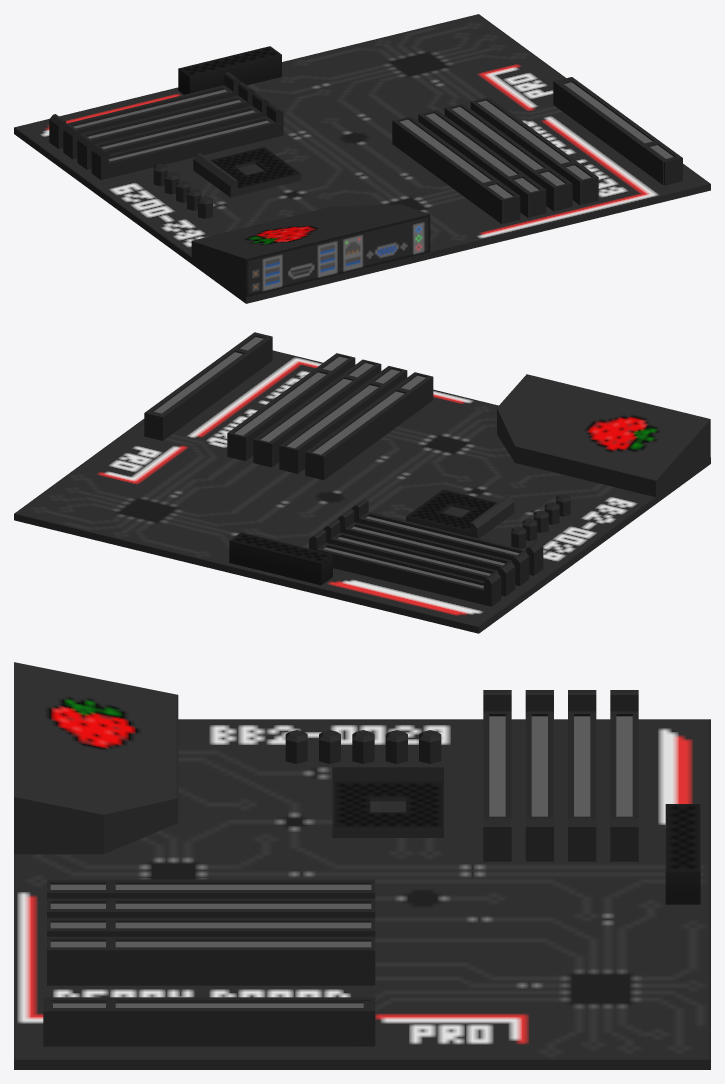
File: Motherboard.fbx
3 views of the same model, one above another, from view 1: azimuth 30°, elevation 25°; view 2: azimuth 150°, elevation 25°; view 3: azimuth 270°, elevation 25° (orthographic). The views are drawn at different scales.
Parts seen in each view (by area): view 1: Cube.002; view 2: Cube.002; view 3: Cube.002.
Part boxes in pixels (x1,y1,x2,y2): Cube.002: (14, 14, 710, 303); Cube.002: (14, 332, 710, 633); Cube.002: (14, 662, 710, 1069).
Size of the model in its own units: 77.07 by 7.1 by 66.66.
